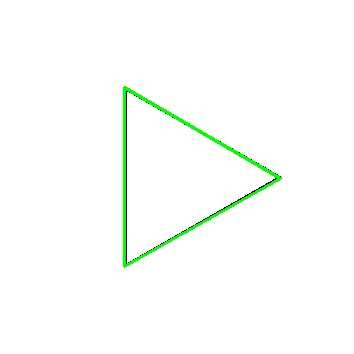line_segment: (123, 87, 281, 267)
